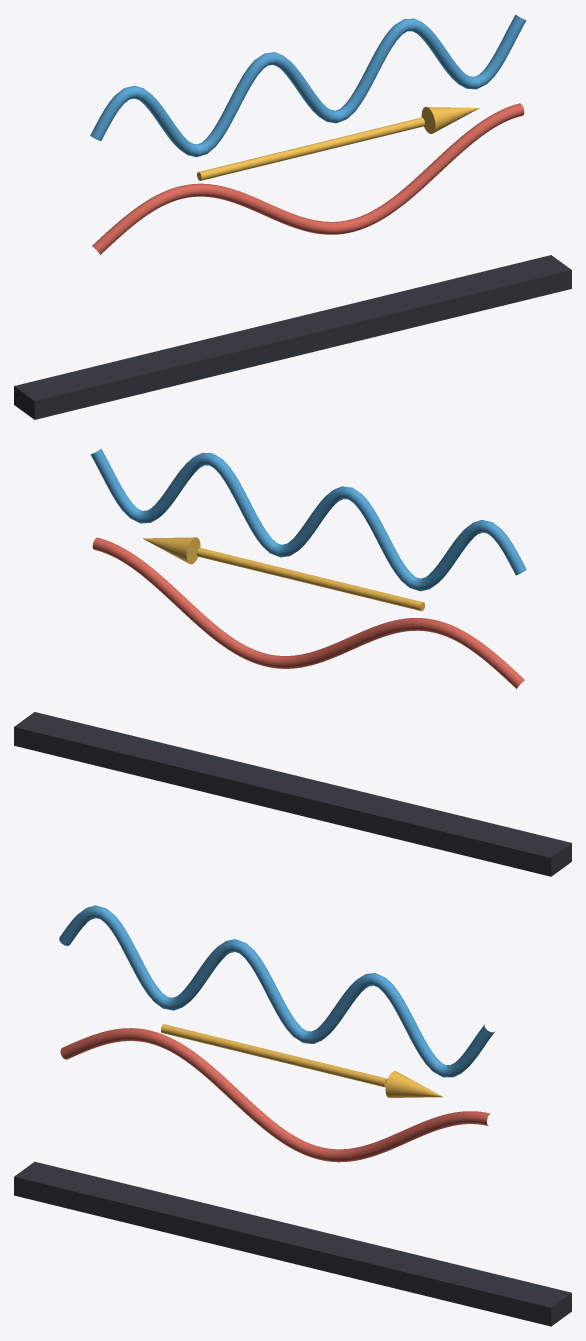
The model's file is space-cosmology-redshift.glb.
3 views of the same model, one above another, from view 1: azimuth 30°, elevation 25°; view 2: azimuth 150°, elevation 25°; view 3: azimuth 330°, elevation 25° (orthographic).
Visible parts, largest first — view 1: cosmology-bench, short-wave-original-light, stretched-wave-redshift-light, wavelength-stretch-arrow-shaft, wavelength-stretch-arrow-head; view 2: cosmology-bench, short-wave-original-light, stretched-wave-redshift-light, wavelength-stretch-arrow-shaft, wavelength-stretch-arrow-head; view 3: cosmology-bench, short-wave-original-light, stretched-wave-redshift-light, wavelength-stretch-arrow-shaft, wavelength-stretch-arrow-head.
Part boxes in pixels (box(x1,y1,x2,y2)): cosmology-bench: box(14, 255, 571, 419); short-wave-original-light: box(90, 14, 526, 157); stretched-wave-redshift-light: box(92, 103, 524, 254); wavelength-stretch-arrow-shaft: box(197, 117, 424, 180); wavelength-stretch-arrow-head: box(421, 107, 479, 133); cosmology-bench: box(14, 712, 571, 876); short-wave-original-light: box(90, 448, 526, 591); stretched-wave-redshift-light: box(92, 537, 524, 688); wavelength-stretch-arrow-shaft: box(197, 548, 424, 611); wavelength-stretch-arrow-head: box(142, 537, 200, 564); cosmology-bench: box(14, 1161, 571, 1326); short-wave-original-light: box(59, 905, 494, 1077); stretched-wave-redshift-light: box(60, 1028, 490, 1162); wavelength-stretch-arrow-shaft: box(161, 1024, 387, 1087); wavelength-stretch-arrow-head: box(385, 1071, 442, 1097).
Size of what is drawn, in the model's own units: 2.4 by 1.34 by 0.274.
